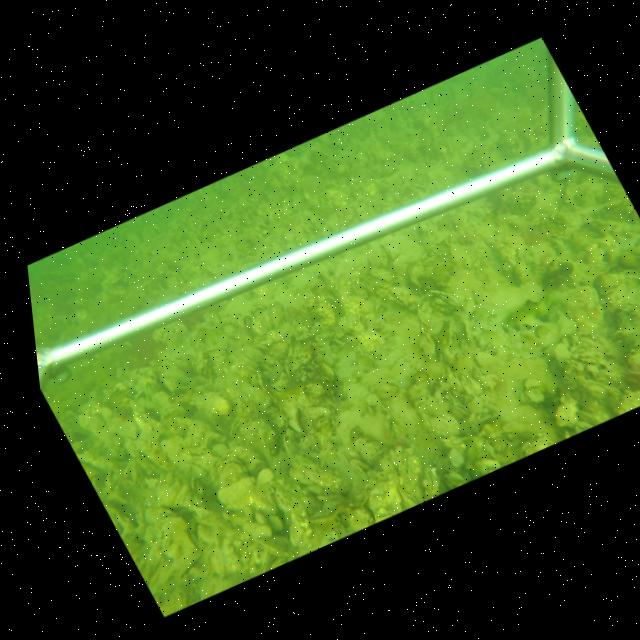Oyster-Closed: (417, 290, 460, 334), (255, 417, 278, 457), (442, 320, 460, 364), (424, 467, 442, 497), (379, 243, 393, 266), (257, 368, 267, 393)
Oyster-Indeterminate: (216, 475, 255, 510), (265, 301, 284, 327)
